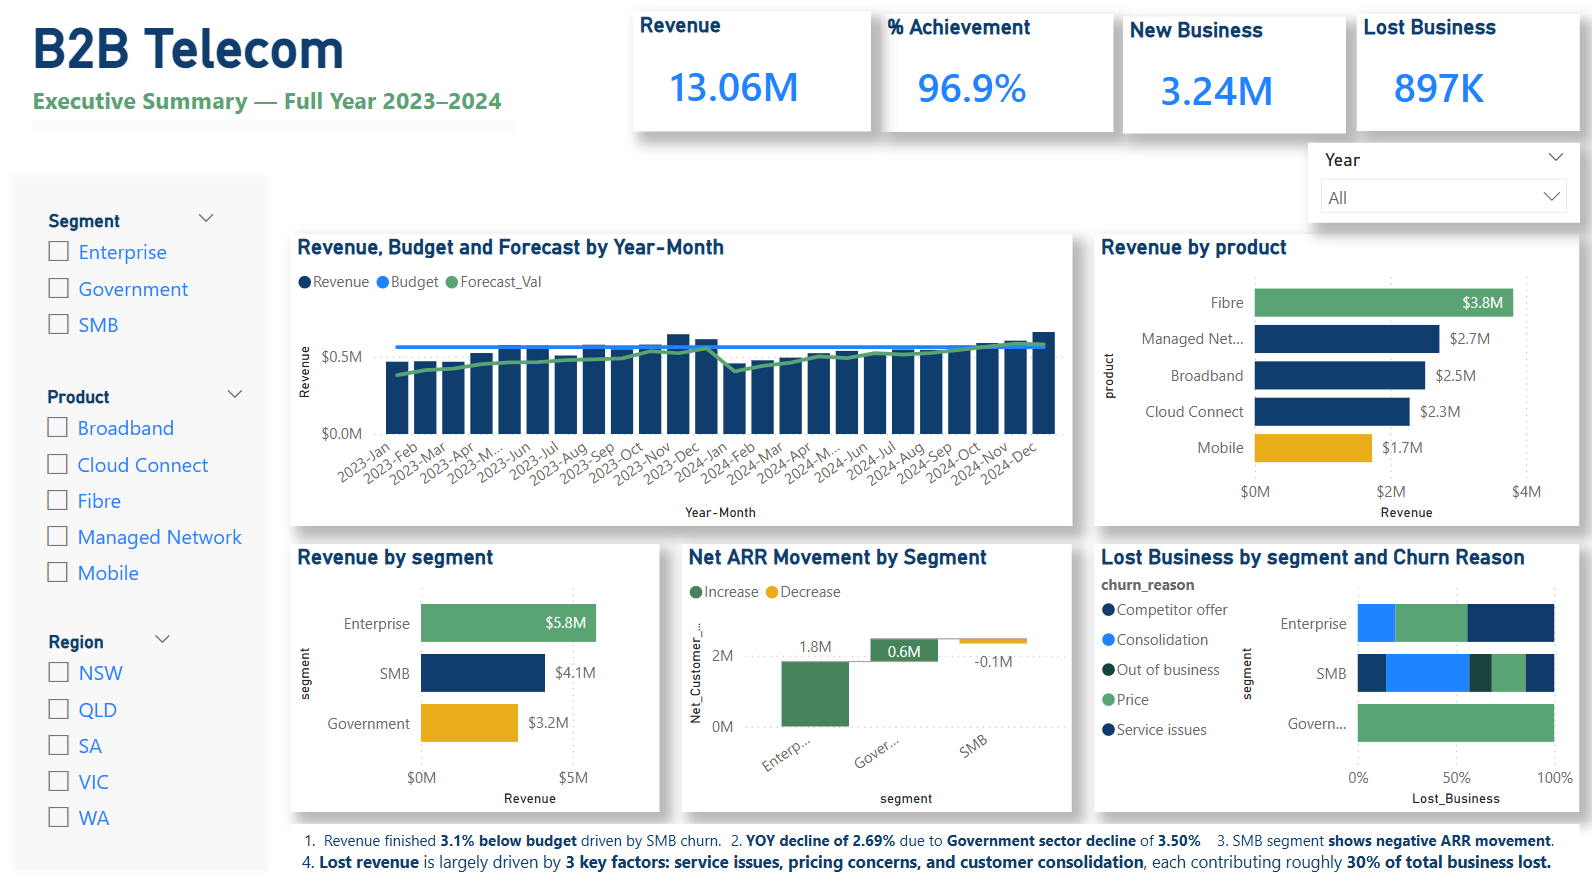

This screenshot's page, from the dashboard's own definition file:
{"tool":"powerbi","page":{"name":"Executive_Summary","canvas":[1280,720],"ordinal":0},"visuals":[{"type":"lineClusteredColumnComboChart","title":"Revenue, Budget and Forecast by Year-Month","fields":{"Y":["Measures_Table.Revenue"],"Y2":["Measures_Table.Budget","Measures_Table.Forecast_Val"],"Category":["Datetable.Year-Month"]},"box":[234,188,625,234],"z":0},{"type":"shape","box":[0,130.2,220.9,573.3],"z":1000},{"type":"slicer","fields":{"Values":["monthly_performance.product"]},"box":[26,305,182,183],"z":2000},{"type":"shape","title":"B2B Telecom","box":[27,14,388,92],"z":3000},{"type":"slicer","fields":{"Values":["monthly_performance.region"]},"box":[27,501,123,193],"z":4000},{"type":"slicer","fields":{"Values":["monthly_performance.segment"]},"box":[27,164,158,127],"z":5000},{"type":"cardVisual","title":"% Achievement","fields":{"Data":["Measures_Table.% achivement"]},"box":[706,12,186,95],"z":6000},{"type":"cardVisual","title":"Revenue","fields":{"Data":["Measures_Table.Revenue"]},"box":[508,10,190,96],"z":7000},{"type":"cardVisual","title":"New Business","fields":{"Data":["Measures_Table.New_Business_Value"]},"box":[900,14,178,94],"z":8000},{"type":"clusteredBarChart","fields":{"Category":["monthly_performance.segment"],"Y":["Measures_Table.Revenue"]},"box":[234,436,295,215],"z":9000},{"type":"clusteredBarChart","fields":{"Category":["monthly_performance.product"],"Y":["Measures_Table.Revenue"]},"box":[877,188,388,234],"z":10000},{"type":"cardVisual","title":"Lost Business","fields":{"Data":["Measures_Table.Lost_Business"]},"box":[1087.2,11.6,177.9,94.2],"z":11000},{"type":"waterfallChart","title":"Net ARR Movement by Segment","fields":{"Category":["monthly_performance.segment"],"Y":["Measures_Table.Net_Customer_Rev_Growth"]},"box":[547,436,312,215],"z":12000},{"type":"hundredPercentStackedBarChart","title":"Lost Business by segment and Churn Reason","fields":{"Category":["customers.segment"],"Y":["Measures_Table.Lost_Business"],"Series":["customers.churn_reason"]},"box":[877,436,388,215],"z":13000},{"type":"slicer","fields":{"Values":["Datetable.Year"]},"box":[1048,115,217,64],"z":14000},{"type":"textbox","box":[234,660,1031,53],"z":14001}]}

Visuals, with their boxes in screenshot pixels (x1, y1, x2, y2), scaled from the page's 1280x720 canvas onto the 1592x892 screenshot:
"Revenue, Budget and Forecast by Year-Month" lineClusteredColumnComboChart: l=291, t=233, r=1068, b=523
shape: l=0, t=161, r=275, b=872
slicer - monthly_performance.product: l=32, t=378, r=259, b=605
"B2B Telecom" shape: l=34, t=17, r=516, b=131
slicer - monthly_performance.region: l=34, t=621, r=187, b=860
slicer - monthly_performance.segment: l=34, t=203, r=230, b=361
"% Achievement" cardVisual: l=878, t=15, r=1109, b=133
"Revenue" cardVisual: l=632, t=12, r=868, b=131
"New Business" cardVisual: l=1119, t=17, r=1341, b=134
clusteredBarChart - monthly_performance.segment x Measures_Table.Revenue: l=291, t=540, r=658, b=807
clusteredBarChart - monthly_performance.product x Measures_Table.Revenue: l=1091, t=233, r=1573, b=523
"Lost Business" cardVisual: l=1352, t=14, r=1573, b=131
"Net ARR Movement by Segment" waterfallChart: l=680, t=540, r=1068, b=807
"Lost Business by segment and Churn Reason" hundredPercentStackedBarChart: l=1091, t=540, r=1573, b=807
slicer - Datetable.Year: l=1303, t=142, r=1573, b=222
textbox: l=291, t=818, r=1573, b=883
